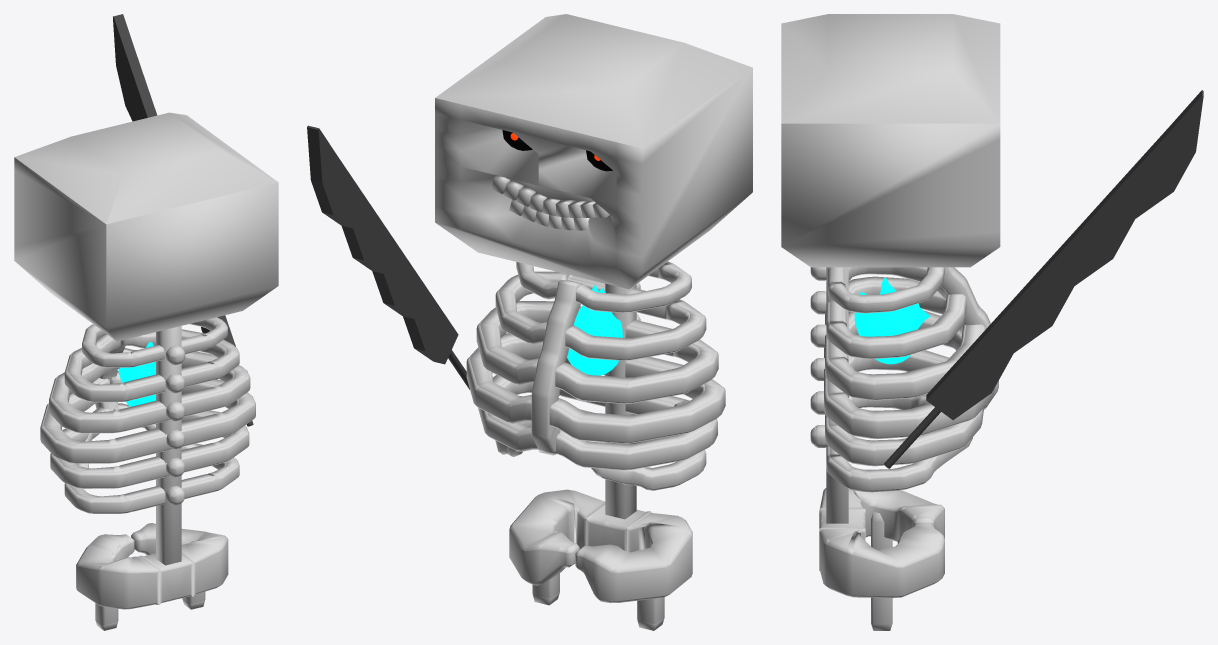
File: szkieletor2.glb
3 views of the same model, side by side, from view 1: azimuth 30°, elevation 25°; view 2: azimuth 150°, elevation 25°; view 3: azimuth 270°, elevation 25° (orthographic). The views are drawn at different scales.
Visible parts, largest first — view 1: Cube; view 2: Cube; view 3: Cube.
Part boxes in pixels (box(x1,y1,x2,y2)): Cube: box(14, 14, 278, 630); Cube: box(307, 14, 752, 630); Cube: box(781, 14, 1203, 630).
Bounding box in the file's own units: 1.5 × 3.33 × 2.24.
